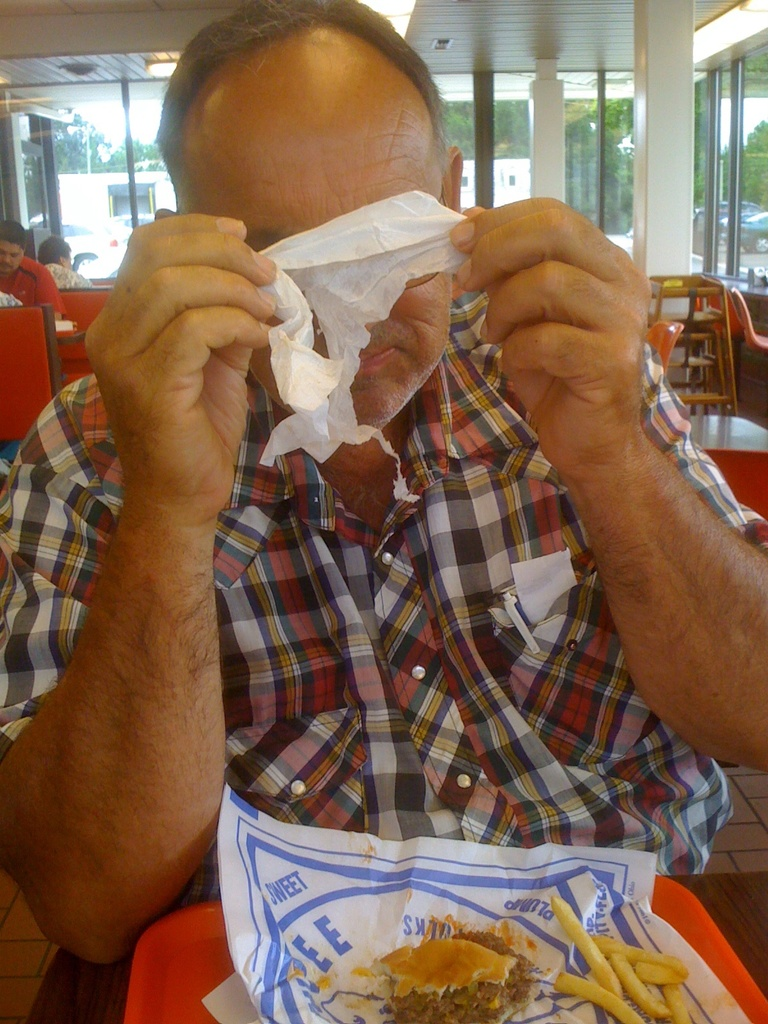French fries: (539, 888, 693, 1023)
